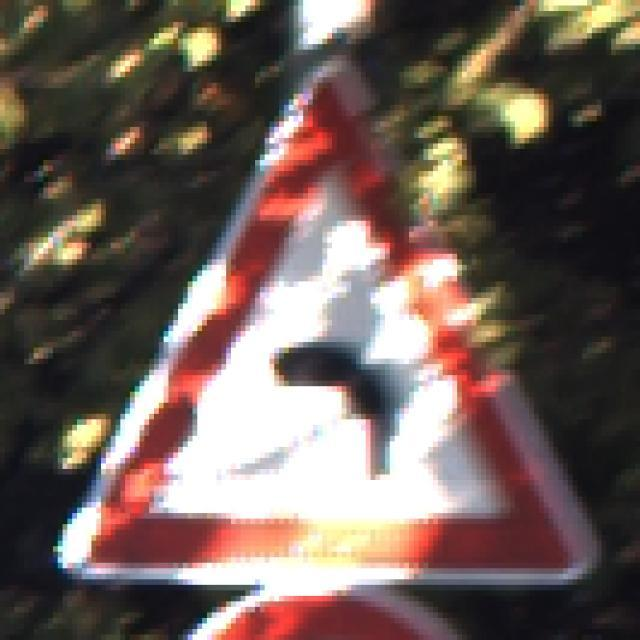left hand curve: (45, 38, 593, 595)
